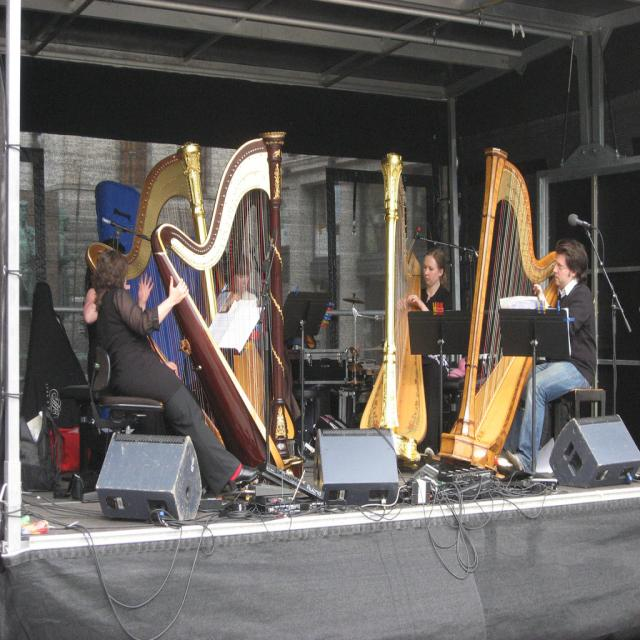harp: (153, 118, 289, 478), (83, 141, 233, 436), (438, 144, 564, 463), (359, 149, 428, 469)
